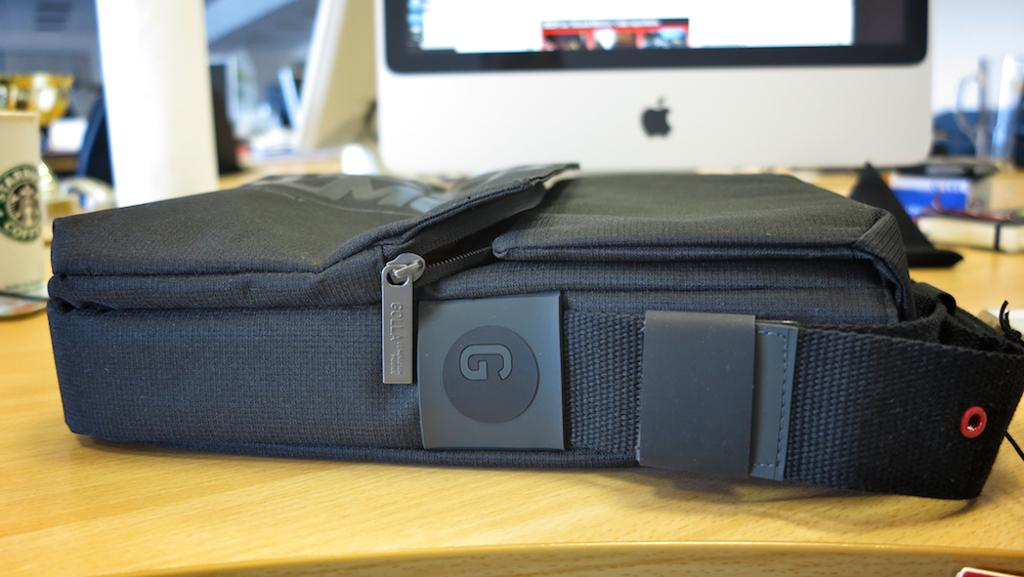Luggage-and-bags: (47, 171, 1023, 503)
